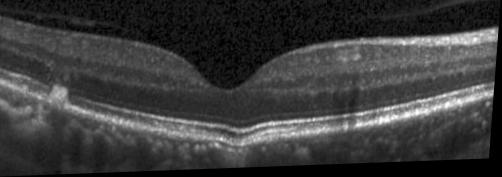retinal_drusen: (51, 86, 71, 109)
vitreomacular_traction: (1, 7, 144, 42), (368, 0, 499, 21)
